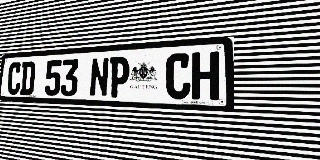3: (60, 59, 79, 96)
5: (45, 60, 62, 96)
C: (165, 53, 191, 100), (7, 62, 22, 95)
D: (20, 61, 36, 95)
H: (191, 51, 219, 100)
N: (89, 57, 109, 97)
P: (108, 56, 130, 98)
